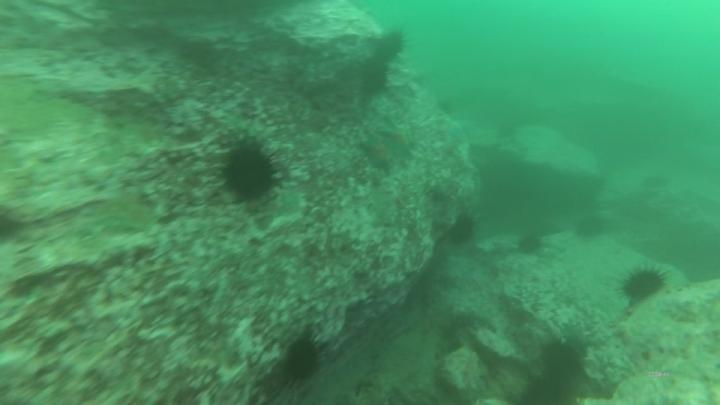echinus: (225, 146, 274, 200), (523, 376, 576, 405), (541, 341, 582, 378), (288, 342, 321, 380), (624, 272, 663, 299), (377, 31, 407, 57), (361, 63, 386, 92), (451, 217, 471, 245), (577, 217, 602, 239), (517, 234, 539, 251)
starfish: (357, 138, 390, 172), (380, 123, 415, 154)
